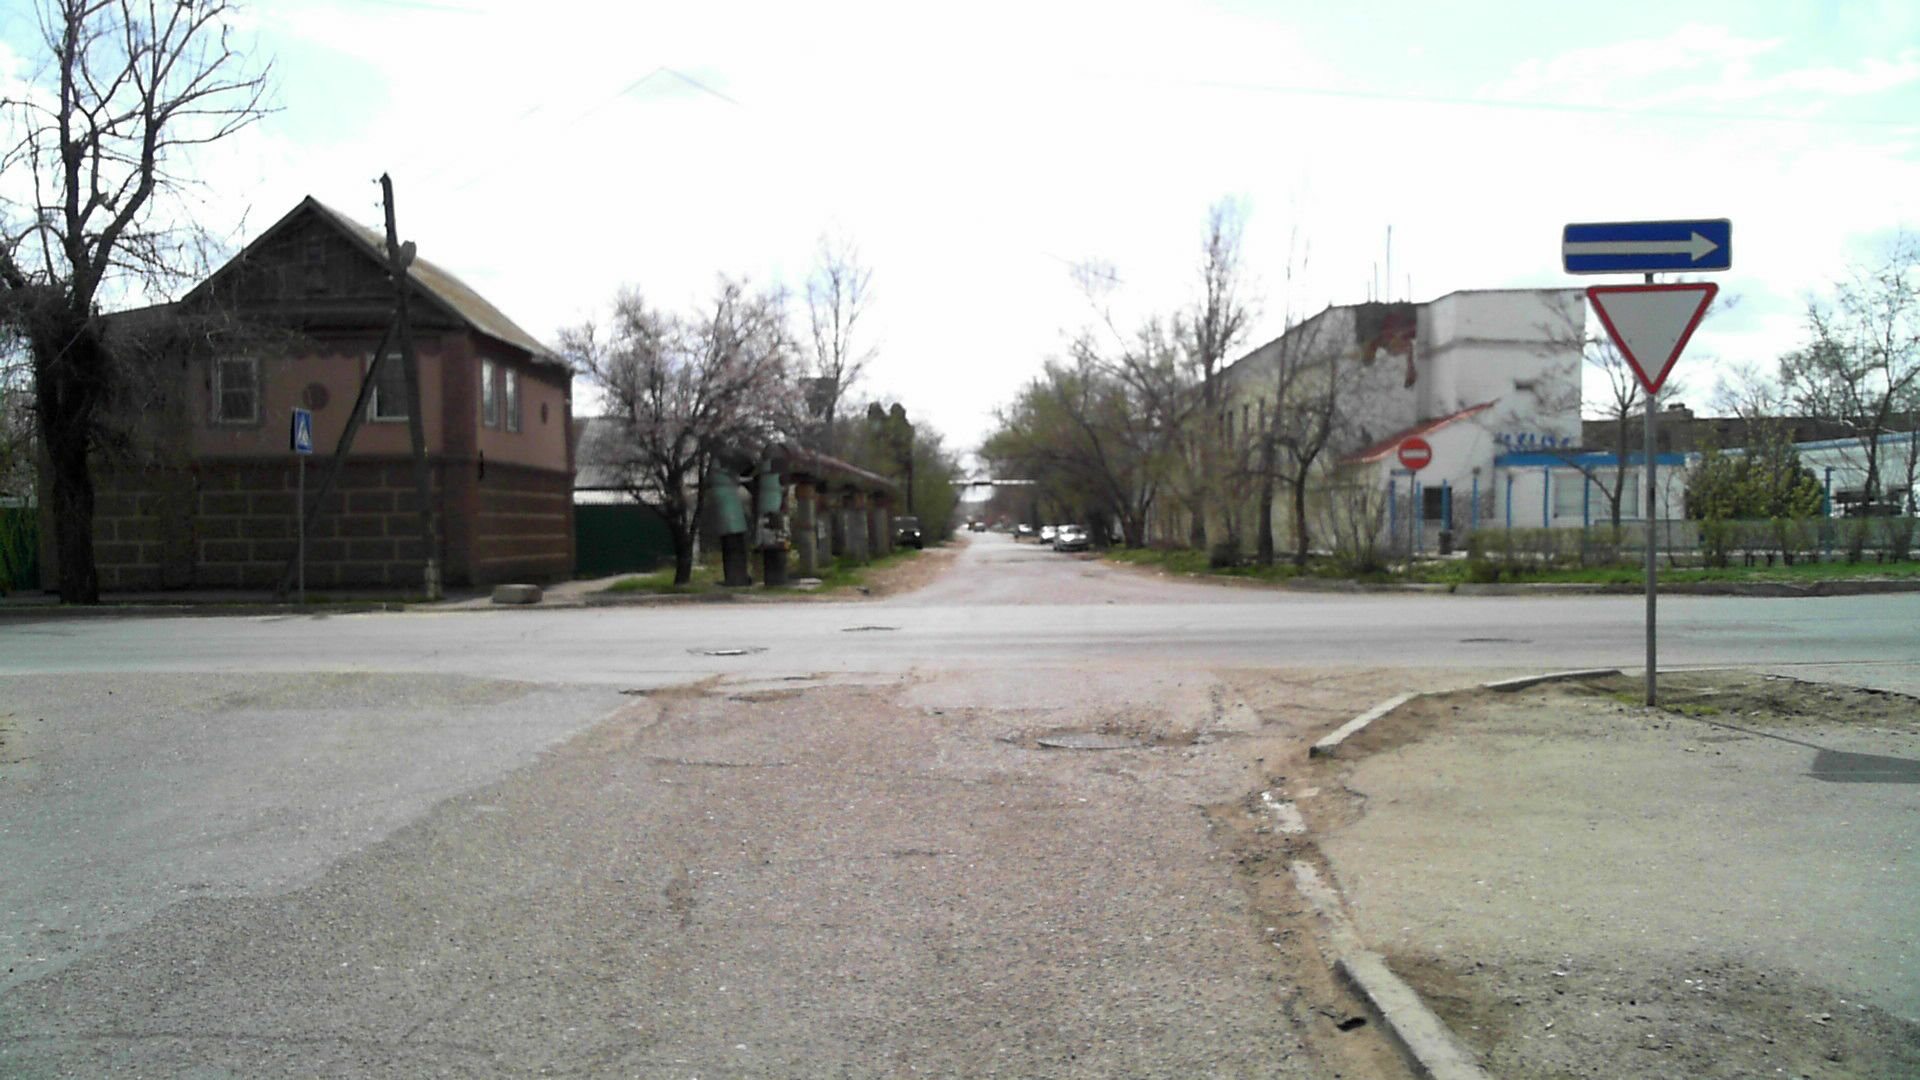One-Way Traffic: (1563, 219, 1733, 272)
